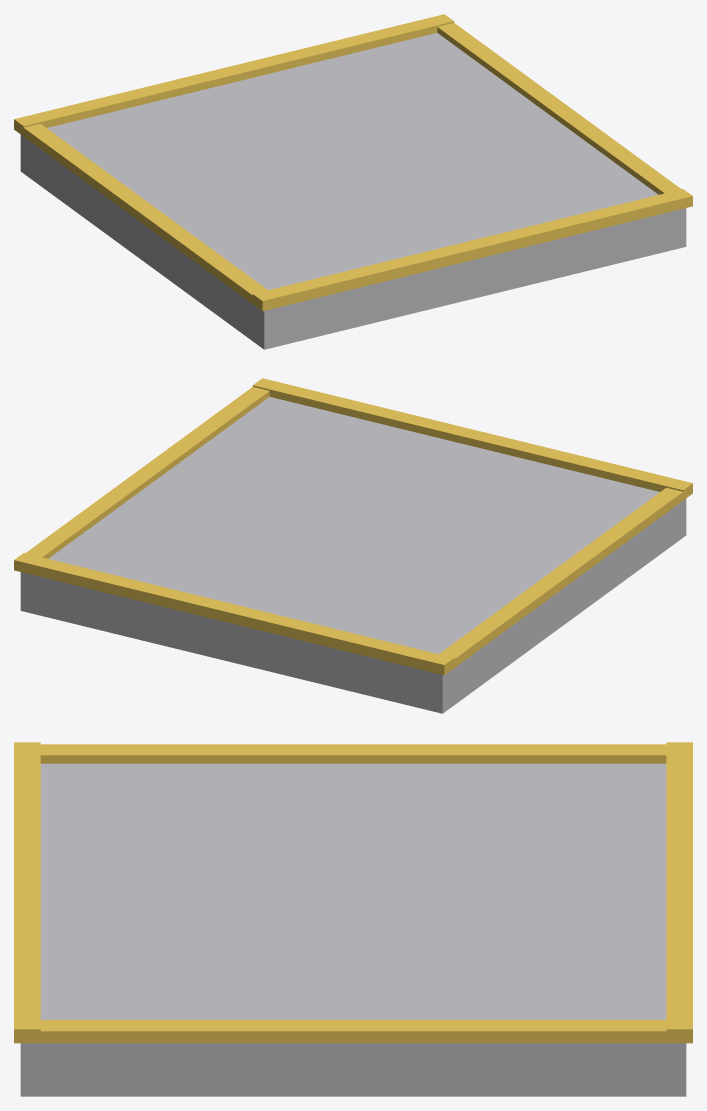
The model's file is platform.glb.
3 views of the same model, one above another, from view 1: azimuth 30°, elevation 25°; view 2: azimuth 150°, elevation 25°; view 3: azimuth 270°, elevation 25° (orthographic). The views are drawn at different scales.
Visible parts, largest first — view 1: PlatformSlab, EdgeTrimXF, EdgeTrimXB, EdgeTrimZL, EdgeTrimZR; view 2: PlatformSlab, EdgeTrimXB, EdgeTrimXF, EdgeTrimZL, EdgeTrimZR; view 3: PlatformSlab, EdgeTrimZR, EdgeTrimZL, EdgeTrimXB, EdgeTrimXF.
Part boxes in pixels (bbox=[...]): PlatformSlab: bbox=[20, 33, 686, 349]; EdgeTrimXF: bbox=[252, 189, 692, 311]; EdgeTrimXB: bbox=[14, 14, 454, 127]; EdgeTrimZL: bbox=[14, 121, 279, 310]; EdgeTrimZR: bbox=[437, 23, 681, 209]; PlatformSlab: bbox=[20, 397, 686, 713]; EdgeTrimXB: bbox=[14, 553, 454, 675]; EdgeTrimXF: bbox=[252, 378, 692, 491]; EdgeTrimZL: bbox=[427, 485, 692, 674]; EdgeTrimZR: bbox=[25, 387, 269, 558]; PlatformSlab: bbox=[20, 763, 686, 1096]; EdgeTrimZR: bbox=[14, 1020, 691, 1043]; EdgeTrimZL: bbox=[40, 744, 666, 763]; EdgeTrimXB: bbox=[666, 742, 692, 1043]; EdgeTrimXF: bbox=[14, 742, 40, 1043].
Bounding box in the file's own units: 3.06 × 0.35 × 3.06.
